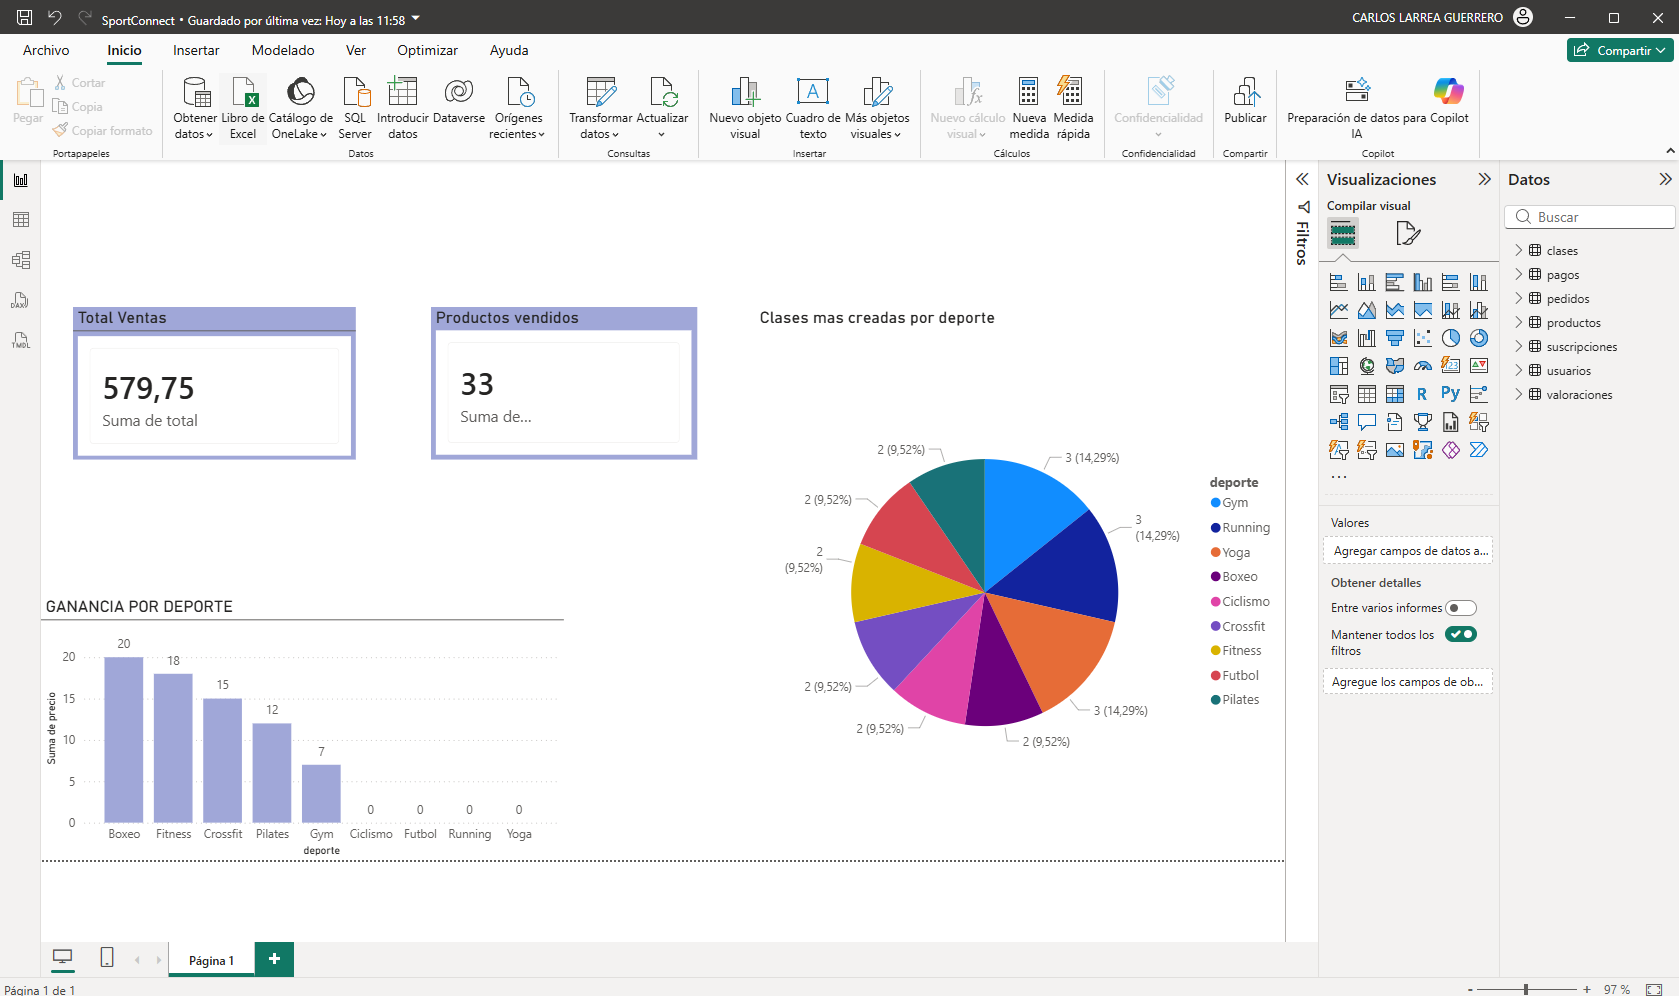

The dashboard page shown, as its layout file describes it:
{"tool":"powerbi","page":{"name":"Página 1","canvas":[1280,720],"ordinal":0},"visuals":[{"type":"columnChart","title":"GANANCIA POR DEPORTE","fields":{"Category":["clases.deporte"],"Y":["Sum(clases.precio)"]},"box":[0,448.5,537.7,271.2],"z":0},{"type":"cardVisual","title":"Total Ventas","fields":{"Data":["Sum(pedidos.total)"]},"box":[33.3,151.1,291.4,157],"z":1000},{"type":"cardVisual","title":"Productos vendidos","fields":{"Data":["Sum(pedidos.producto.vendedor.rol.id)"]},"box":[400.9,151.1,273.6,157],"z":2000},{"type":"pieChart","title":"Clases mas creadas por deporte","fields":{"Category":["clases.deporte"],"Y":["Sum(clases.profesor.rol.id)"]},"box":[735.2,151.1,544.8,568.6],"z":3000}]}

Visuals, with their boxes on the page's 1280x720 design canvas (x1, y1, x2, y2). These are canvas units, not pixel positions in the 1679x996 screenshot, which may show the page scaled, cropped or inside an application window:
"GANANCIA POR DEPORTE" columnChart: left=0, top=448, right=538, bottom=720
"Total Ventas" cardVisual: left=33, top=151, right=325, bottom=308
"Productos vendidos" cardVisual: left=401, top=151, right=674, bottom=308
"Clases mas creadas por deporte" pieChart: left=735, top=151, right=1280, bottom=720
